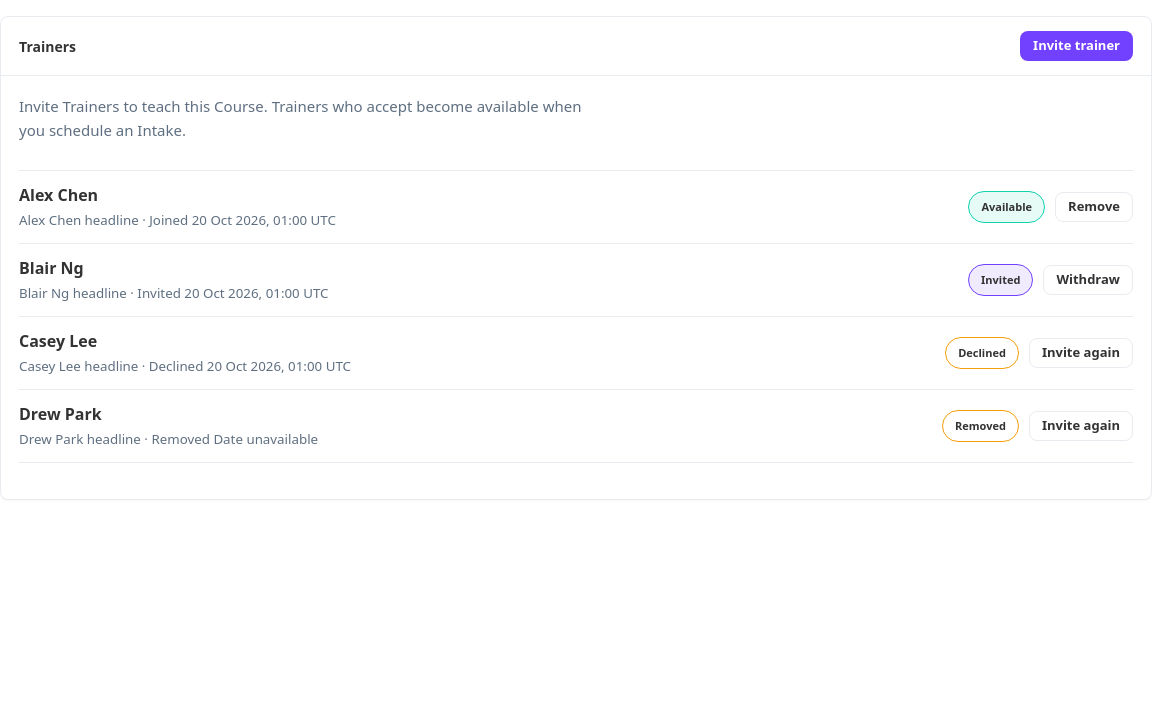
Test: asks before removing an available trainer
Click the button "Remove".
click(1094, 207)  # box [1055,192,1133,222]
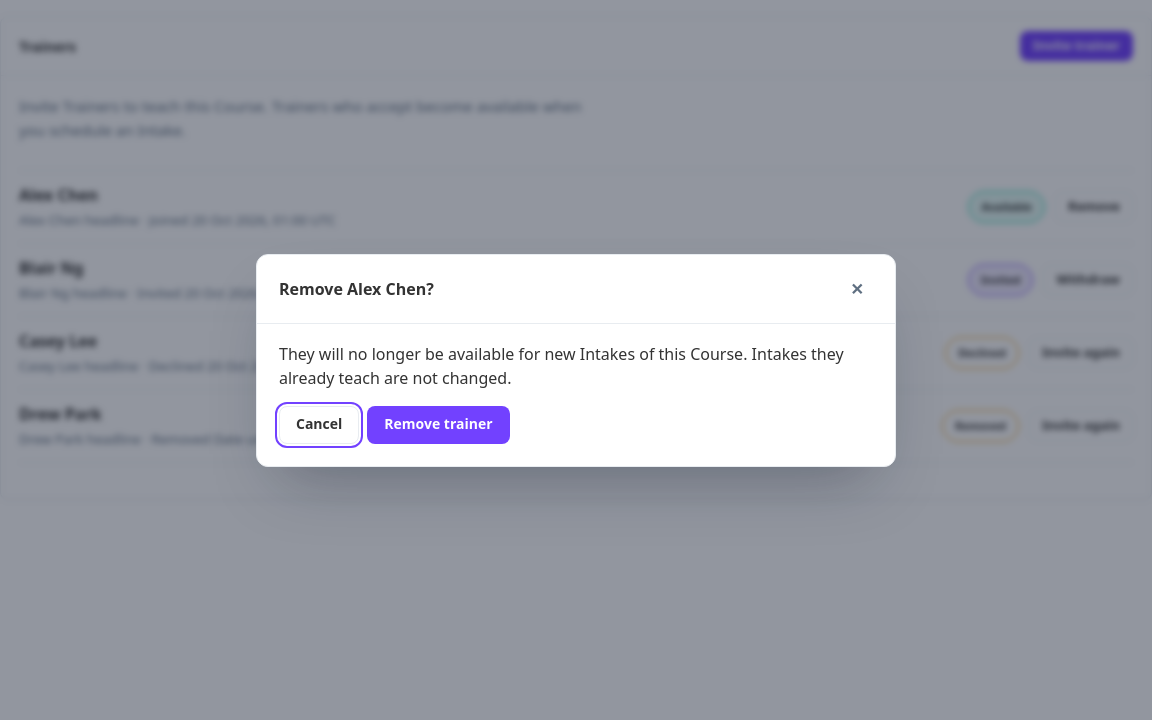
Click the button "Remove trainer".
click(438, 424)  # box [367,406,510,444]
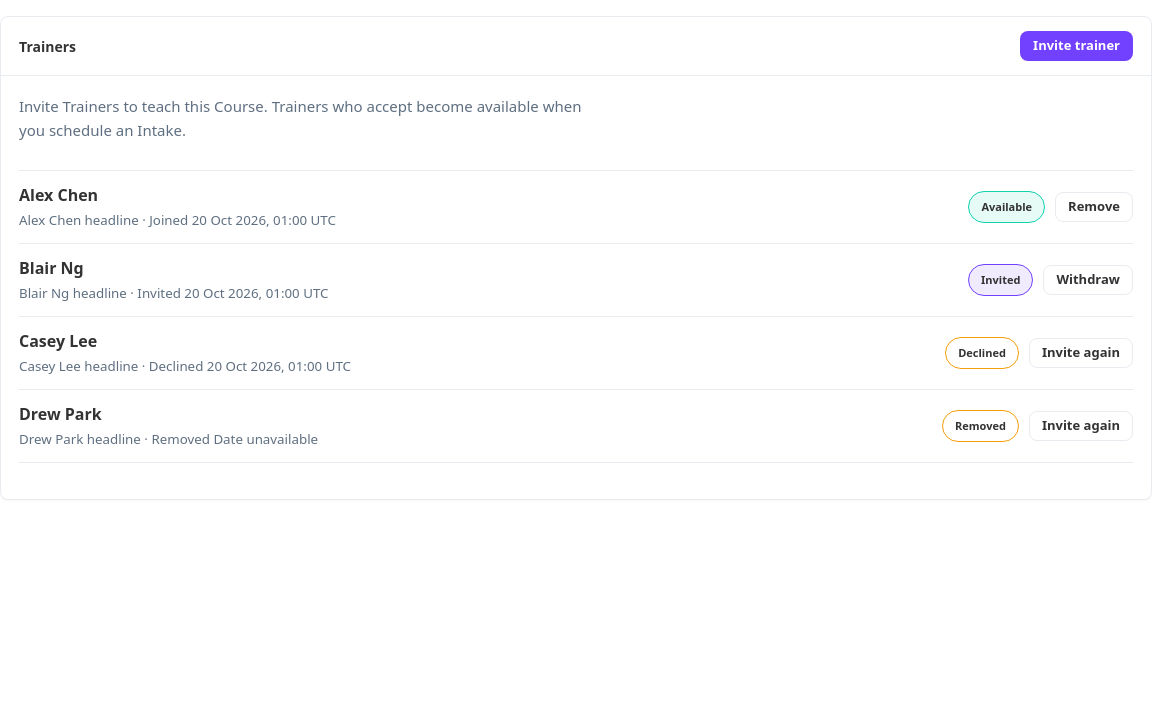
Expected: the button "Invite trainer" is shown, [1020,31,1133,61]
Expected: the dialog is gone
